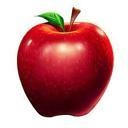apple: (20, 14, 114, 115)
